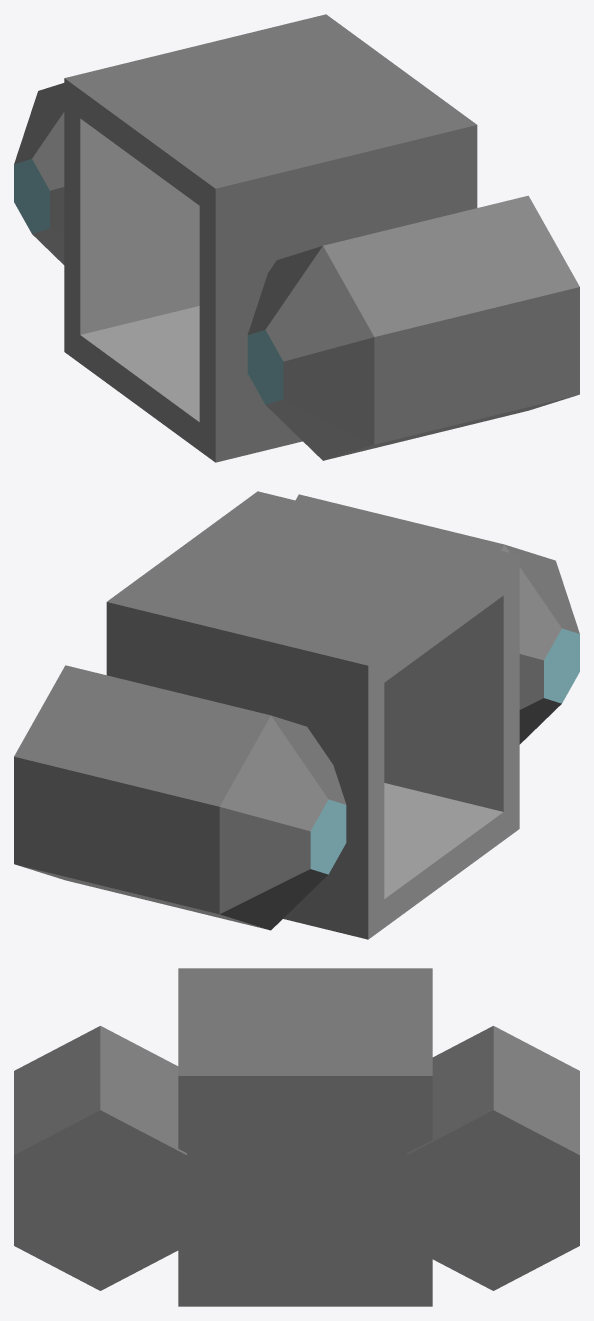
Rendered from ConyaorGate.fbx.
3 renders of one model, top to bottom at view 1: azimuth 30°, elevation 25°; view 2: azimuth 150°, elevation 25°; view 3: azimuth 270°, elevation 25°, orthographic. The views are drawn at different scales.
Parts seen in each view (by area): view 1: CovayorGate; view 2: CovayorGate; view 3: CovayorGate.
Boxes of the visible parts, x1=… form: CovayorGate: x1=14, y1=14, x2=579, y2=462; CovayorGate: x1=14, y1=491, x2=579, y2=939; CovayorGate: x1=14, y1=968, x2=579, y2=1306.
Size of the model in its own units: 22.4 by 21.98 by 48.91.
